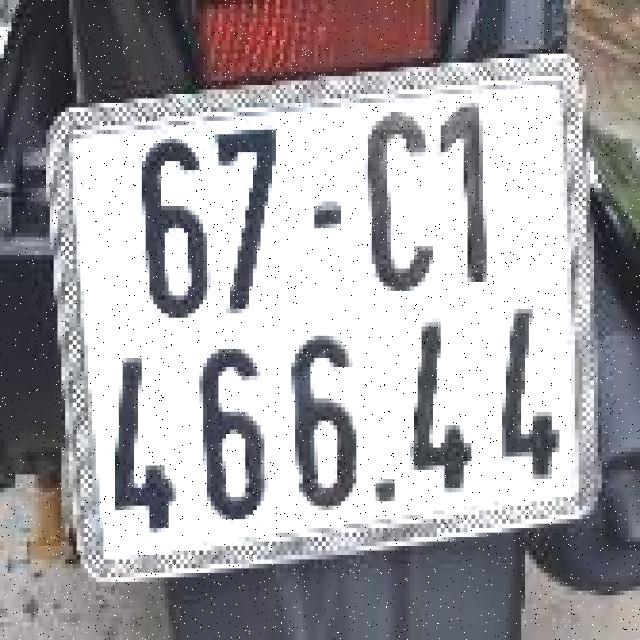1: (435, 89, 512, 291)
4: (94, 342, 186, 548), (492, 295, 584, 488), (398, 318, 483, 501)
6: (283, 313, 368, 519), (186, 336, 278, 524), (125, 130, 212, 327)
7: (203, 96, 295, 316)
C: (352, 103, 437, 304)
